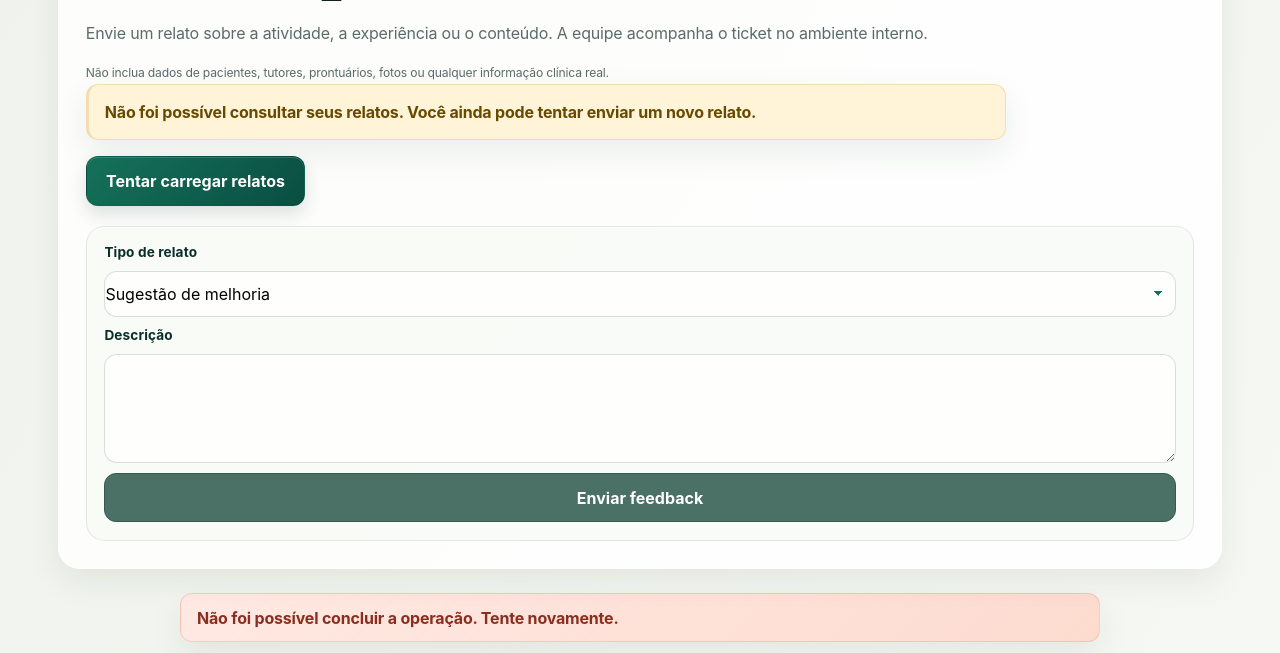
Test: allows a new feedback report after its history cannot load
(page scrolled)
Expected: the message "Não foi possível concluir a operação. Tente novamente." is shown, [180,593,1100,642]
Expected: the text "Não foi possível consultar seus relatos" is shown, [105,102,756,122]
Select "Bug técnico" in the dropdown labelled "Tipo de relato" at [640, 294], box [104,270,1176,317]
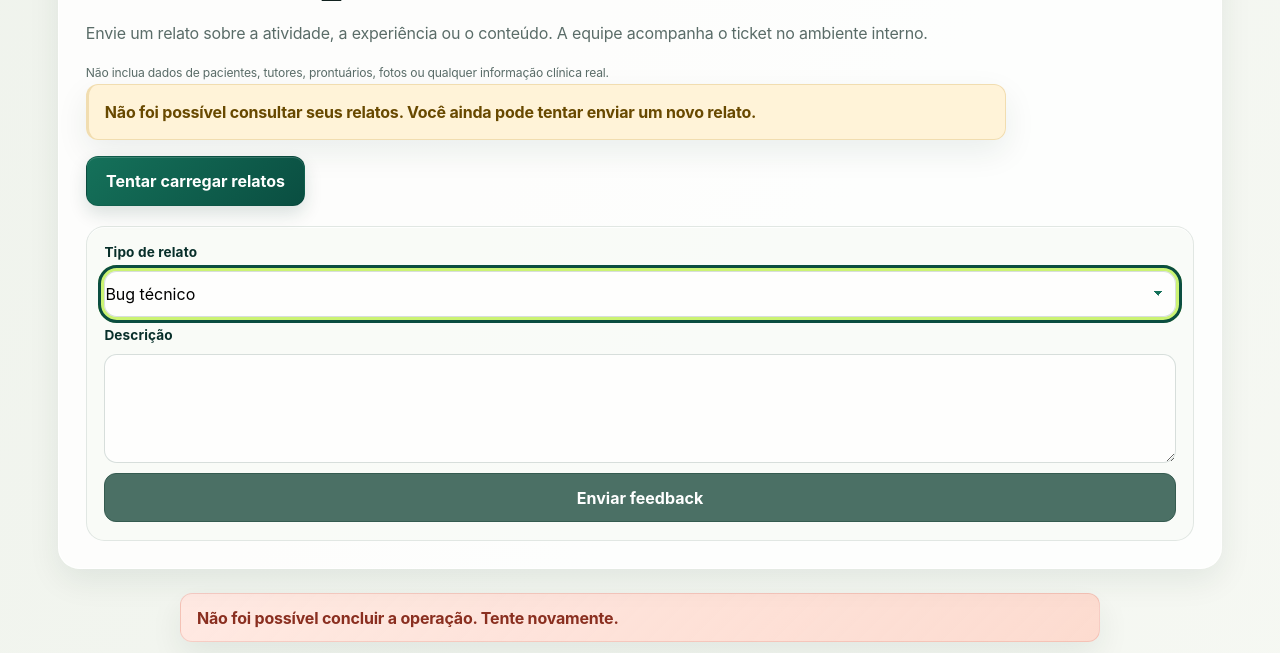
Type "Relato sintético após falha da consulta." into the text box labelled "Descrição" at [640, 408], box [104,354,1176,463]
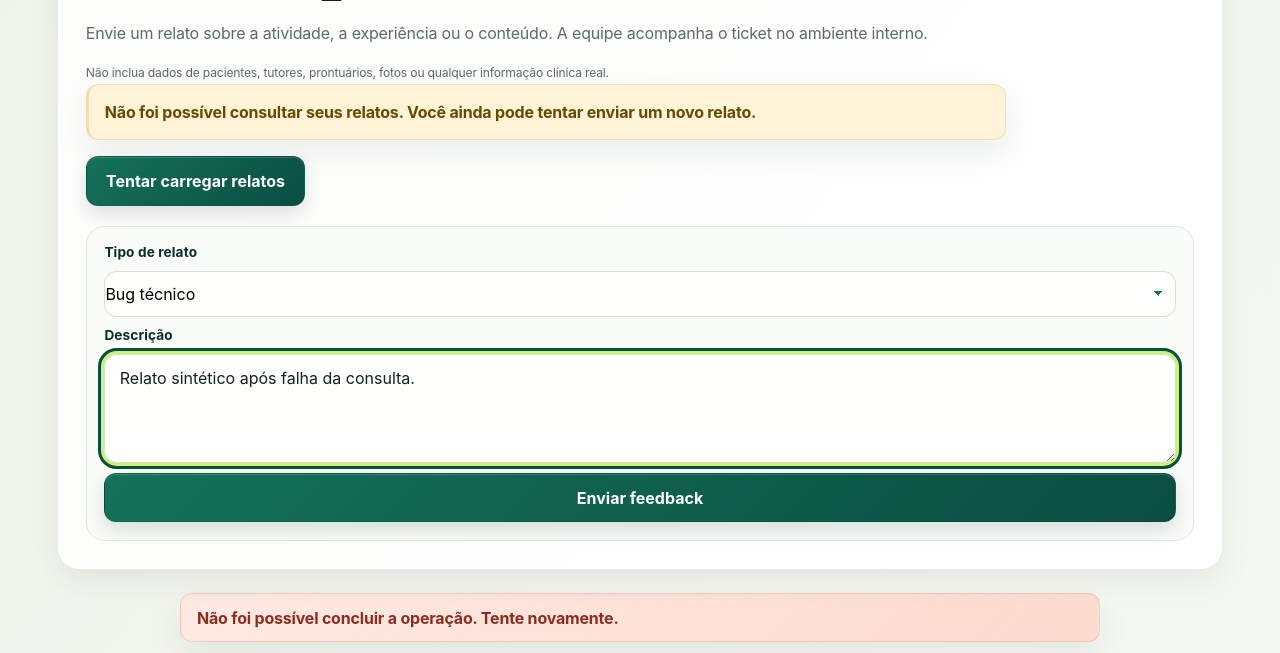
Click the button "Enviar feedback" at [640, 498], box [104,473,1176,522]
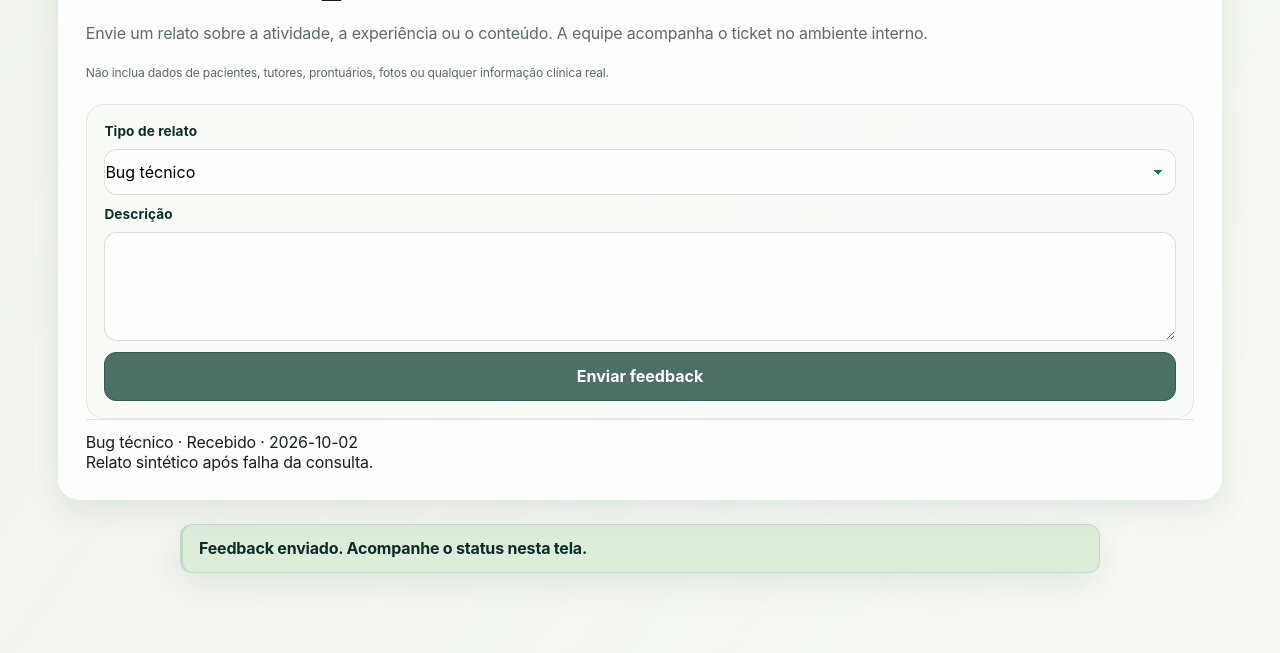
Result: the text "Não foi possível concluir a operação. Tente novamente." is gone
